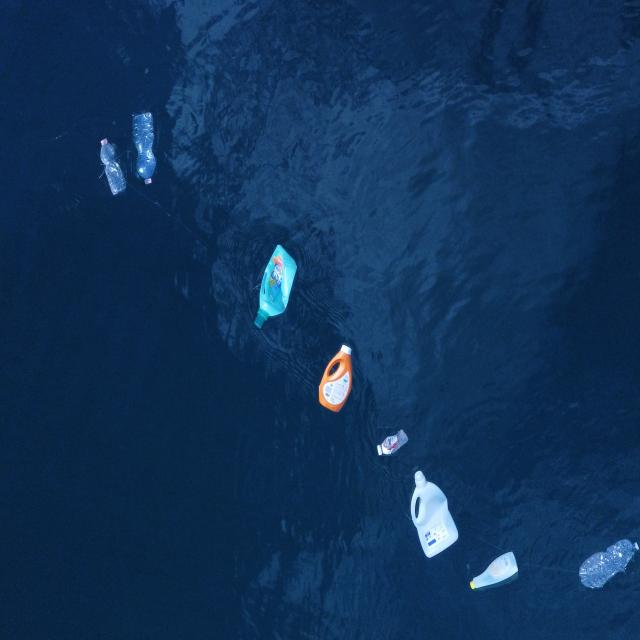bottles: (410, 469, 459, 559), (253, 244, 297, 330), (579, 537, 640, 591), (318, 344, 352, 414), (469, 550, 518, 590), (132, 112, 157, 186), (99, 136, 127, 196), (375, 428, 409, 456)
